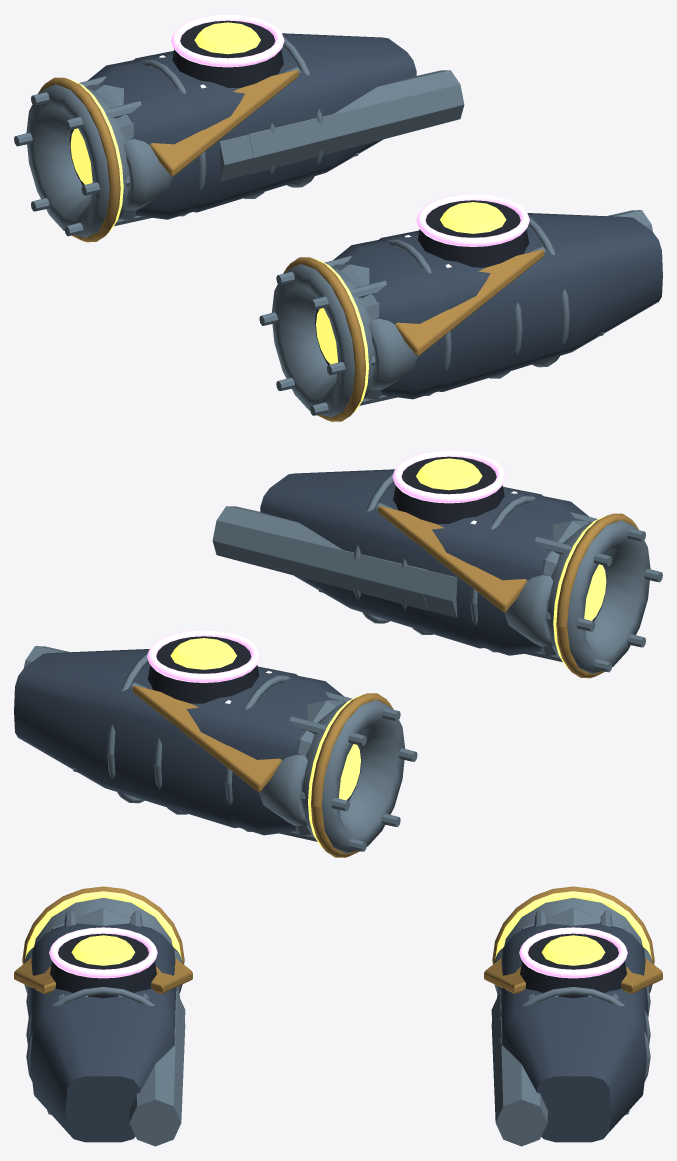
Rendered from engine.glb.
3 views of the same model, one above another, from view 1: azimuth 30°, elevation 25°; view 2: azimuth 150°, elevation 25°; view 3: azimuth 270°, elevation 25° (orthographic). The views are drawn at different scales.
Visible parts, largest first — view 1: e_twin Fitting gunmetal, e_nova Brushed fitting edges, e_twin Brushed fitting edges, e_nova Fitting gunmetal, e_nova Champagne gold edging, e_fusion Machined graphite, e_fusion e_fusion emitter, e_ion Brushed fitting edges, e_fusion Fusion amber core, e_nova e_nova emitter, e_fusion Brushed fitting edges; view 2: e_twin Fitting gunmetal, e_nova Brushed fitting edges, e_twin Brushed fitting edges, e_nova Fitting gunmetal, e_nova Champagne gold edging, e_fusion Machined graphite, e_fusion e_fusion emitter, e_ion Brushed fitting edges, e_fusion Fusion amber core, e_nova e_nova emitter, e_fusion Brushed fitting edges; view 3: e_twin Fitting gunmetal, e_twin Brushed fitting edges, e_fusion Machined graphite, e_nova Champagne gold edging, e_nova Brushed fitting edges, e_fusion e_fusion emitter, e_fusion Fusion amber core, e_nova e_nova emitter, e_nova Fitting gunmetal, e_ion Brushed fitting edges, e_fusion Brushed fitting edges.
Part boxes in pixels (<box>): e_twin Fitting gunmetal: <box>133,33,662,391</box>; e_nova Brushed fitting edges: <box>14,76,397,417</box>; e_twin Brushed fitting edges: <box>123,67,652,389</box>; e_nova Fitting gunmetal: <box>69,60,448,399</box>; e_nova Champagne gold edging: <box>38,70,544,421</box>; e_fusion Machined graphite: <box>172,20,529,267</box>; e_fusion e_fusion emitter: <box>171,14,529,246</box>; e_ion Brushed fitting edges: <box>141,37,569,395</box>; e_fusion Fusion amber core: <box>194,22,506,233</box>; e_nova e_nova emitter: <box>68,79,368,412</box>; e_fusion Brushed fitting edges: <box>87,84,603,399</box>; e_twin Fitting gunmetal: <box>14,469,543,827</box>; e_nova Brushed fitting edges: <box>279,512,662,853</box>; e_twin Brushed fitting edges: <box>24,503,553,825</box>; e_nova Fitting gunmetal: <box>228,496,607,835</box>; e_nova Champagne gold edging: <box>132,506,638,857</box>; e_fusion Machined graphite: <box>147,456,504,703</box>; e_fusion e_fusion emitter: <box>147,450,505,682</box>; e_ion Brushed fitting edges: <box>107,473,535,831</box>; e_fusion Fusion amber core: <box>170,458,482,669</box>; e_nova e_nova emitter: <box>308,515,608,848</box>; e_fusion Brushed fitting edges: <box>73,520,589,835</box>; e_twin Fitting gunmetal: <box>29,946,647,1142</box>; e_twin Brushed fitting edges: <box>24,948,652,1146</box>; e_fusion Machined graphite: <box>50,933,626,998</box>; e_nova Champagne gold edging: <box>14,886,662,993</box>; e_nova Brushed fitting edges: <box>34,898,642,1021</box>; e_fusion e_fusion emitter: <box>49,927,627,978</box>; e_fusion Fusion amber core: <box>71,935,605,965</box>; e_nova e_nova emitter: <box>25,891,651,958</box>; e_nova Fitting gunmetal: <box>31,923,645,967</box>; e_ion Brushed fitting edges: <box>26,986,650,1081</box>; e_fusion Brushed fitting edges: <box>47,908,629,1114</box>.
Size of the model in its own units: 15.81 by 6.71 by 24.85.
